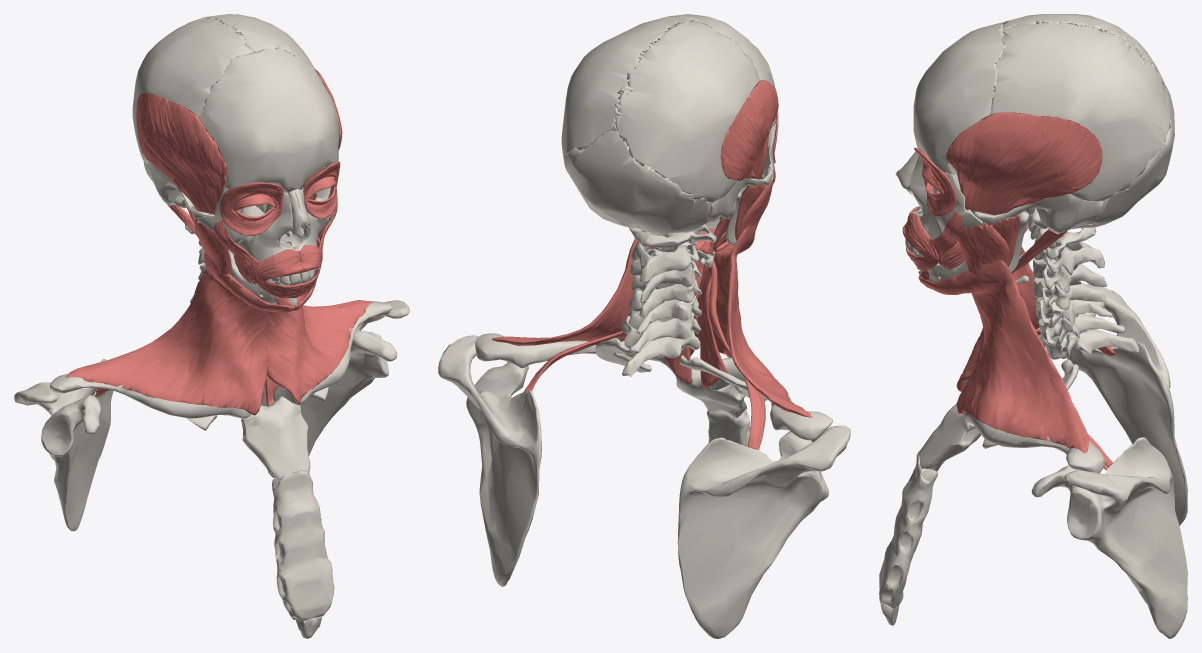
File: muscle_head.glb
The picture shows the model from 3 angles, left to right: view 1: azimuth 30°, elevation 25°; view 2: azimuth 150°, elevation 25°; view 3: azimuth 270°, elevation 25°; orthographic projection. The views are drawn at different scales.
Parts seen in each view (by area): view 1: b_skull, b_shoulder, platysma, temporalis, orbicularis_oculi, orbicularis_oris, masseter, zygomaticus_major, b_mandible; view 2: b_shoulder, b_skull, b_cervical, platysma, temporalis, omohyoid, sternohyoid, masseter; view 3: b_skull, b_shoulder, platysma, temporalis, b_cervical, masseter, orbicularis_oculi, orbicularis_oris, b_mandible, zygomaticus_major, digastric.
Part boxes in pixels (bbox=[...]): b_skull: bbox=[132, 14, 339, 261]; b_shoulder: bbox=[14, 300, 409, 638]; platysma: bbox=[65, 252, 372, 415]; temporalis: bbox=[136, 69, 342, 215]; orbicularis_oculi: bbox=[220, 161, 340, 235]; orbicularis_oris: bbox=[251, 245, 322, 298]; masseter: bbox=[184, 201, 327, 274]; zygomaticus_major: bbox=[214, 202, 337, 281]; b_mandible: bbox=[193, 206, 311, 305]; b_shoulder: bbox=[438, 333, 850, 638]; b_skull: bbox=[561, 14, 776, 234]; b_cervical: bbox=[621, 224, 716, 376]; platysma: bbox=[491, 225, 812, 417]; temporalis: bbox=[720, 80, 778, 195]; omohyoid: bbox=[523, 261, 765, 449]; sternohyoid: bbox=[664, 261, 727, 388]; masseter: bbox=[735, 180, 772, 240]; b_skull: bbox=[895, 14, 1174, 239]; b_shoulder: bbox=[879, 284, 1187, 638]; platysma: bbox=[918, 246, 1088, 453]; temporalis: bbox=[945, 112, 1102, 215]; b_cervical: bbox=[1029, 226, 1139, 359]; masseter: bbox=[957, 214, 1020, 274]; orbicularis_oculi: bbox=[914, 147, 956, 216]; orbicularis_oris: bbox=[902, 206, 939, 270]; b_mandible: bbox=[920, 212, 1030, 282]; zygomaticus_major: bbox=[929, 210, 963, 264]; digastric: bbox=[1011, 224, 1068, 273].
Size of the model in its own units: 0.3357 by 0.4692 by 0.2178.
